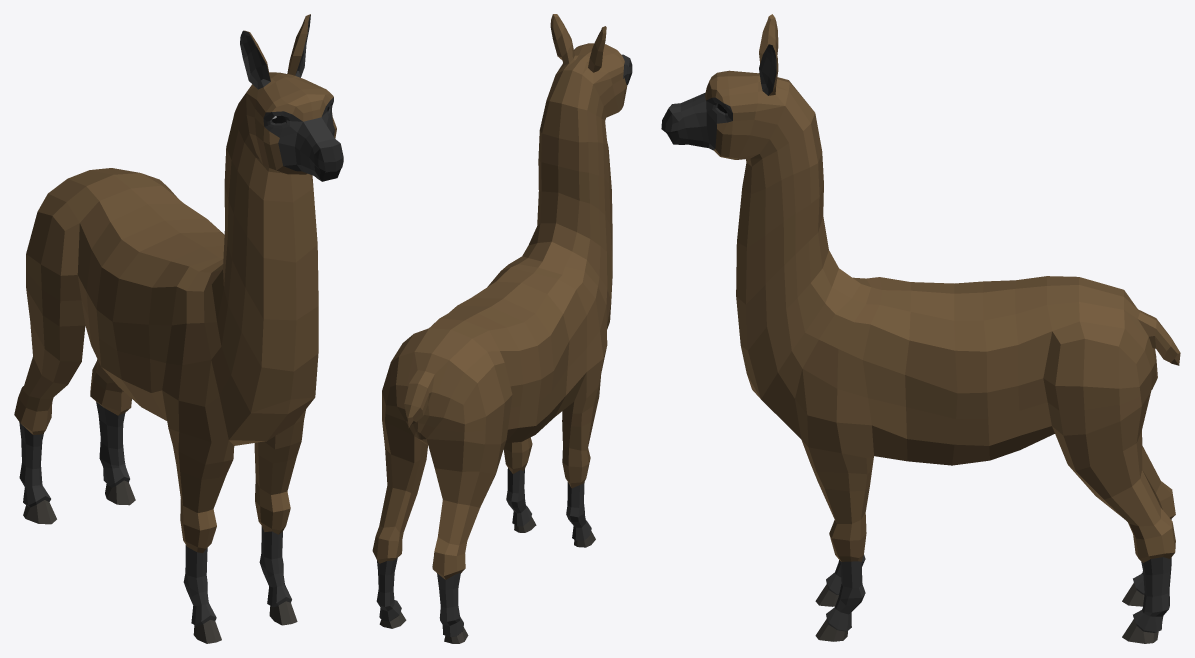
File: americas-animals.glb
3 renders of one model, left to right at view 1: azimuth 30°, elevation 25°; view 2: azimuth 150°, elevation 25°; view 3: azimuth 270°, elevation 25°, orthographic. The views are drawn at different scales.
Visible parts, largest first — view 1: Alpaca; view 2: Alpaca; view 3: Alpaca.
Boxes of the visible parts, box(x1,y1,x2,y2) form: Alpaca: box(14, 14, 343, 643); Alpaca: box(372, 14, 632, 643); Alpaca: box(661, 14, 1180, 643).
Bounding box in the file's own units: 1.27 × 5.4 × 4.3.
